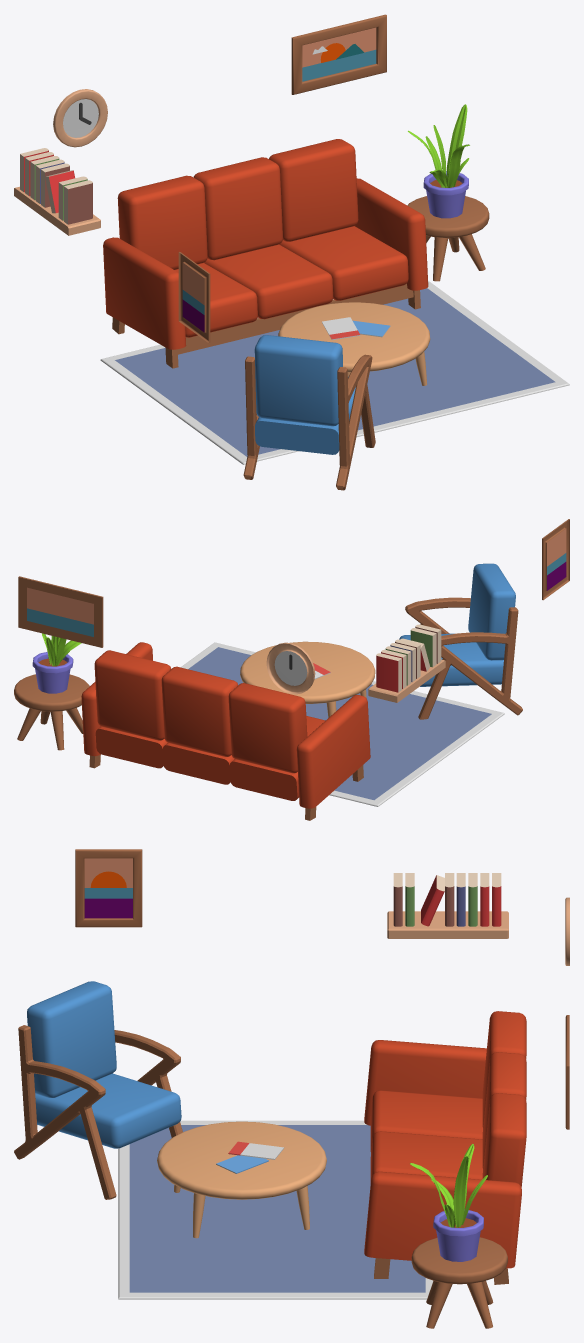
Rendered from With Rurniture.fbx.
The picture shows the model from 3 angles, top to bottom: view 1: azimuth 30°, elevation 25°; view 2: azimuth 150°, elevation 25°; view 3: azimuth 270°, elevation 25°; orthographic projection. The views are drawn at different scales.
Visible parts, largest first — view 1: Couch 2, Plane.053, Couch 2.001, Circle.021, Cube.063, Couch 2.002, Cylinder.027, Cube.046, Cube.059, Cylinder.025, Cylinder.024, Couch 2.003 (+4 smaller); view 2: Couch 2, Plane.053, Couch 2.001, Cube.063, Circle.021, Couch 2.003, Cylinder.027, Cylinder.025, Cube.059, Cylinder.024, Cylinder.026, Couch 2.002 (+3 smaller); view 3: Plane.053, Couch 2, Couch 2.001, Circle.021, Couch 2.002, Cube.059, Cylinder.025, Shelf.003, Cylinder.024, Couch 2.003, Cylinder.026, Cylinder.023 (+3 smaller).
Boxes of the visible parts, <box> form: Couch 2: <box>103,139,428,349</box>; Plane.053: <box>100,280,569,464</box>; Couch 2.001: <box>254,335,355,454</box>; Circle.021: <box>278,302,430,372</box>; Cube.063: <box>291,14,386,94</box>; Couch 2.002: <box>336,354,375,490</box>; Cylinder.027: <box>53,89,107,147</box>; Cube.046: <box>177,283,413,354</box>; Cube.059: <box>178,252,210,342</box>; Cylinder.025: <box>407,196,489,237</box>; Cylinder.024: <box>423,171,468,218</box>; Couch 2.003: <box>243,356,259,479</box>; Couch 2: <box>81,642,370,808</box>; Plane.053: <box>181,642,504,806</box>; Couch 2.001: <box>399,563,515,686</box>; Cube.063: <box>18,576,103,647</box>; Circle.021: <box>240,641,375,703</box>; Couch 2.003: <box>418,607,522,719</box>; Cylinder.027: <box>266,642,315,694</box>; Cylinder.025: <box>14,674,89,711</box>; Cube.059: <box>542,519,569,600</box>; Cylinder.024: <box>32,652,73,693</box>; Cylinder.026: <box>17,707,83,750</box>; Couch 2.002: <box>405,597,470,633</box>; Plane.053: <box>118,1120,433,1299</box>; Couch 2: <box>364,1011,526,1268</box>; Couch 2.001: <box>27,981,181,1148</box>; Circle.021: <box>157,1121,326,1199</box>; Couch 2.002: <box>14,1025,116,1199</box>; Cube.059: <box>75,849,142,927</box>; Cylinder.025: <box>411,1237,507,1284</box>; Shelf.003: <box>387,911,508,938</box>; Cylinder.024: <box>433,1210,483,1261</box>; Couch 2.003: <box>114,1030,182,1137</box>; Cylinder.026: <box>426,1280,493,1328</box>; Cylinder.023: <box>174,1185,309,1238</box>.
Bounding box in the file's own units: 189 × 92 × 183.
